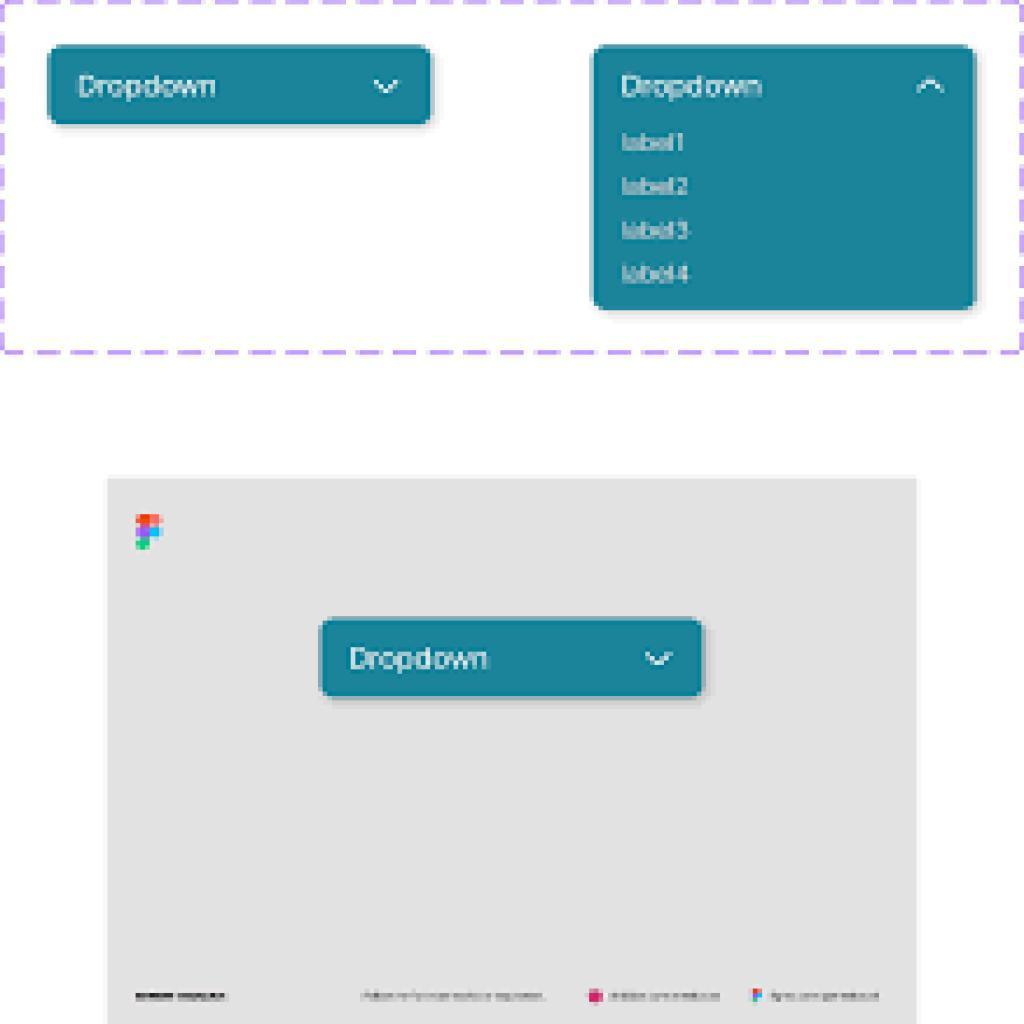dropdown: (319, 618, 701, 700), (51, 46, 429, 127)
